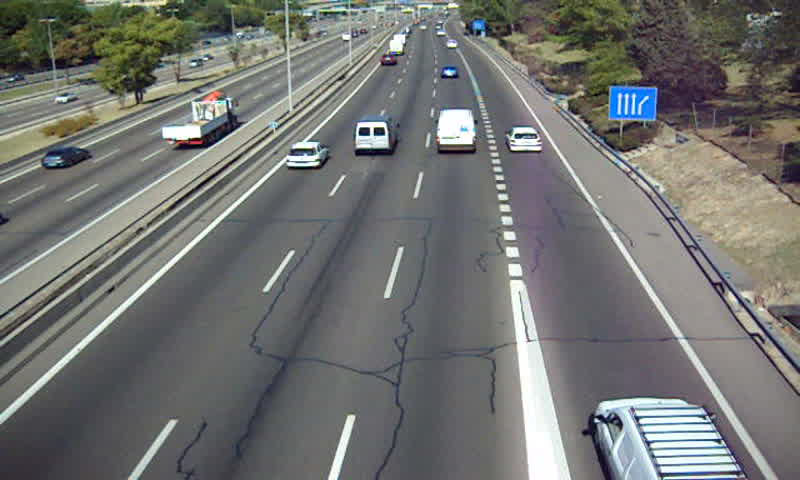car: (285, 141, 328, 169), (506, 126, 542, 152), (440, 65, 459, 80)
van: (592, 398, 746, 480), (355, 115, 400, 155), (436, 108, 477, 151)
